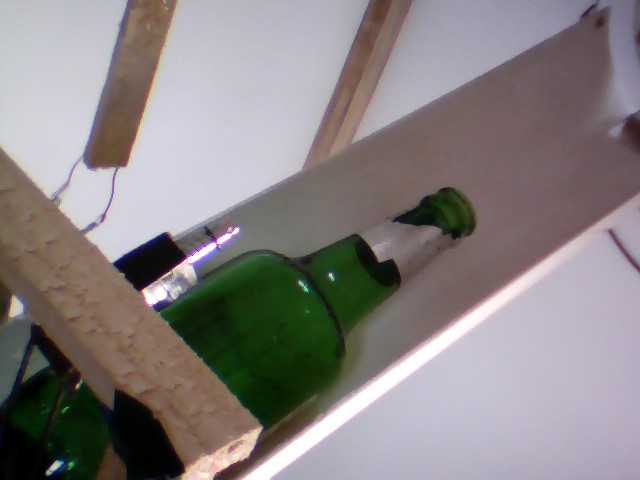vidrio: (191, 181, 483, 435)
